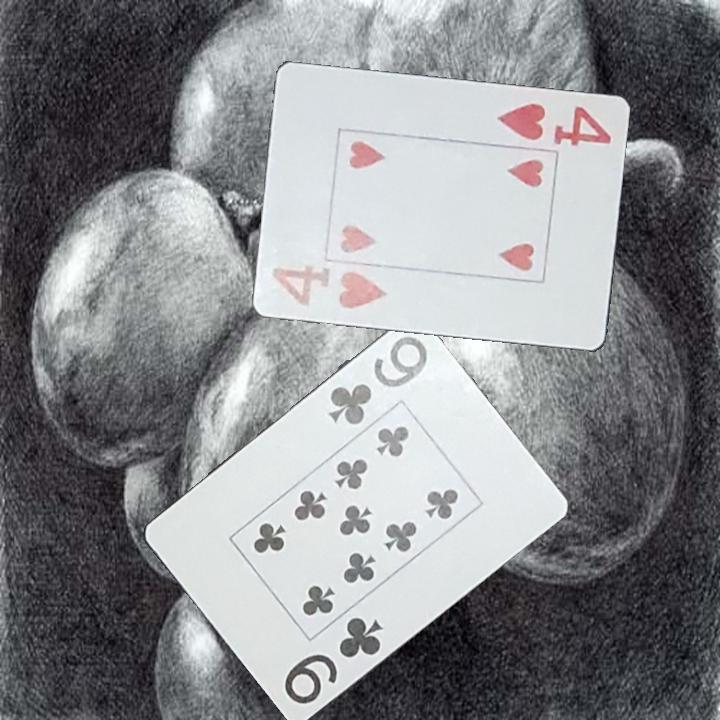4h: (269, 260, 390, 312), (493, 99, 615, 149)
9c: (324, 333, 431, 429), (280, 614, 386, 709)
